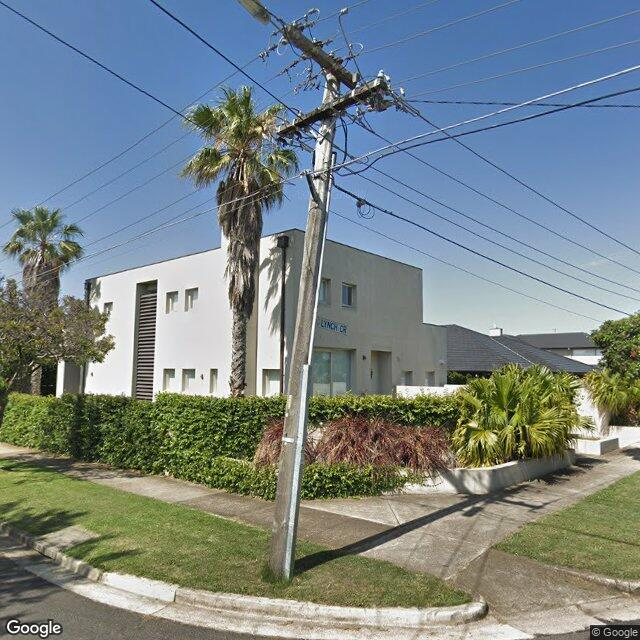crossarm: (276, 78, 388, 138), (284, 25, 357, 90)
streetlight: (234, 0, 286, 27)
timber-pole: (269, 58, 341, 582)
